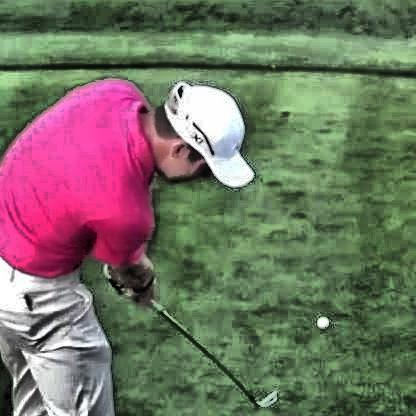golfball: (315, 315, 327, 326)
